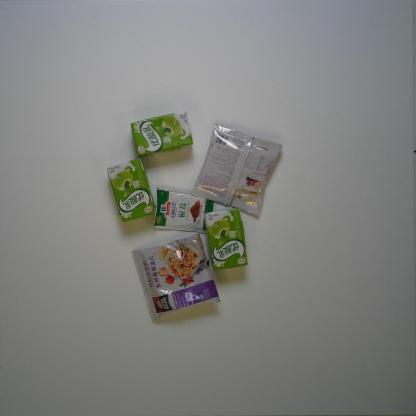Instant Drink: (190, 123, 284, 217), (131, 233, 222, 322)
Milk: (106, 157, 156, 223), (130, 111, 194, 158), (204, 207, 248, 271)
Seasoner: (152, 186, 217, 234)
